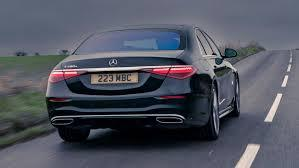mercedes: (105, 56, 118, 66)
